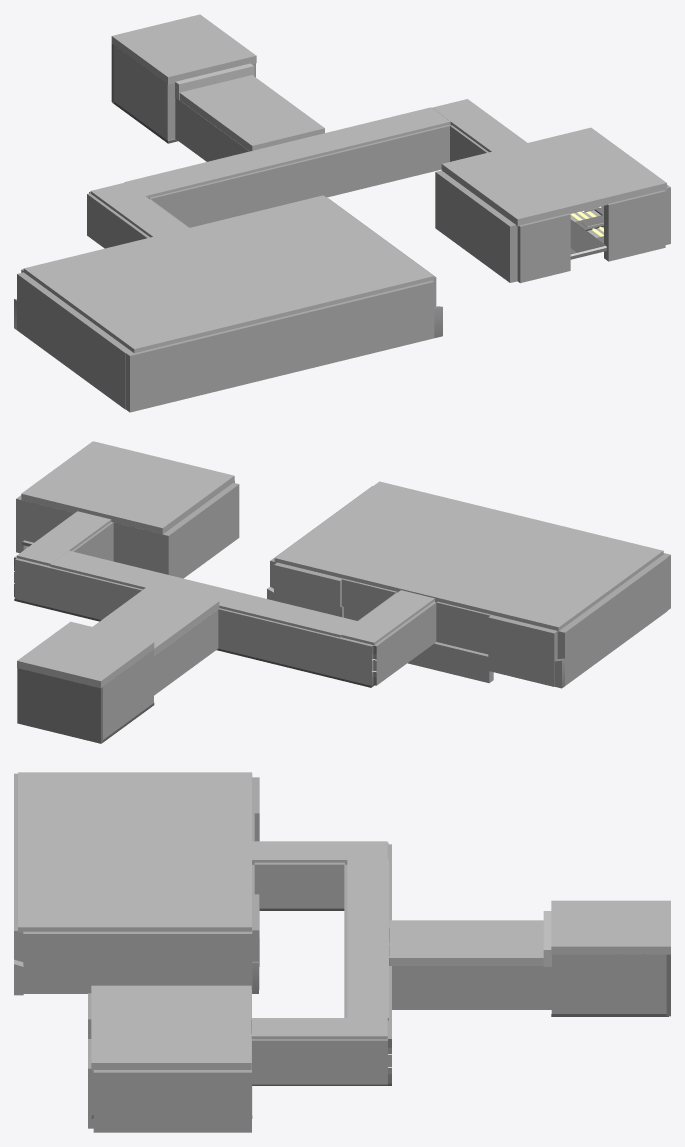
The model's file is Indoor_LayoutAB.fbx.
The picture shows the model from 3 angles, top to bottom: view 1: azimuth 30°, elevation 25°; view 2: azimuth 150°, elevation 25°; view 3: azimuth 270°, elevation 25°; orthographic projection. The views are drawn at different scales.
Parts seen in each view (by area): view 1: Roof.003, Cube.020, Roof.004, Cube.009, Cube.025, Roof.005, Roof.001, Roof, Cube.032, Cube.035, Cube.002, Cube.034 (+7 smaller); view 2: Roof.003, Roof.004, Cube.025, Cube.005, Roof.005, Roof, Cube.004, Roof.001, Cube.008, Cube.032, Cube.024, Cube.002 (+13 smaller); view 3: Roof.003, Roof.004, Cube.023, Cube.033, Roof.001, Cube.003, Cube.010, Roof.005, Roof, Cube.027, Cube.011, Roof.007 (+4 smaller).
Boxes of the visible parts, x1,y1,x2,y2 form: Roof.003: (23, 195, 433, 353); Cube.020: (125, 280, 442, 412); Roof.004: (441, 127, 666, 226); Cube.009: (149, 125, 449, 227); Cube.025: (14, 272, 130, 409); Roof.005: (124, 107, 450, 198); Roof.001: (179, 75, 324, 151); Roof: (111, 14, 256, 84); Cube.032: (435, 170, 517, 282); Cube.035: (604, 190, 665, 261); Cube.002: (113, 45, 175, 140); Cube.034: (517, 213, 570, 283); Roof.003: (274, 481, 663, 630); Roof.004: (21, 441, 234, 534); Cube.025: (554, 556, 667, 688); Cube.005: (218, 608, 373, 685); Roof.005: (50, 550, 358, 637); Roof: (17, 621, 154, 688); Cube.004: (17, 668, 102, 743); Roof.001: (92, 584, 219, 655); Cube.008: (15, 558, 142, 619); Cube.032: (161, 482, 239, 578); Cube.024: (488, 615, 557, 686); Cube.002: (103, 649, 153, 739); Roof.003: (18, 772, 251, 932); Roof.004: (91, 985, 251, 1070); Cube.023: (23, 930, 258, 993); Cube.033: (93, 1069, 251, 1132); Roof.001: (389, 920, 543, 965); Cube.003: (392, 966, 551, 1009); Cube.010: (552, 954, 666, 1013); Roof.005: (347, 859, 388, 1020); Roof: (551, 900, 670, 954); Cube.027: (251, 1039, 387, 1084); Cube.011: (254, 862, 344, 908); Roof.007: (252, 1018, 387, 1039).
Size of the model in its own units: 16085 by 2428 by 14911.
